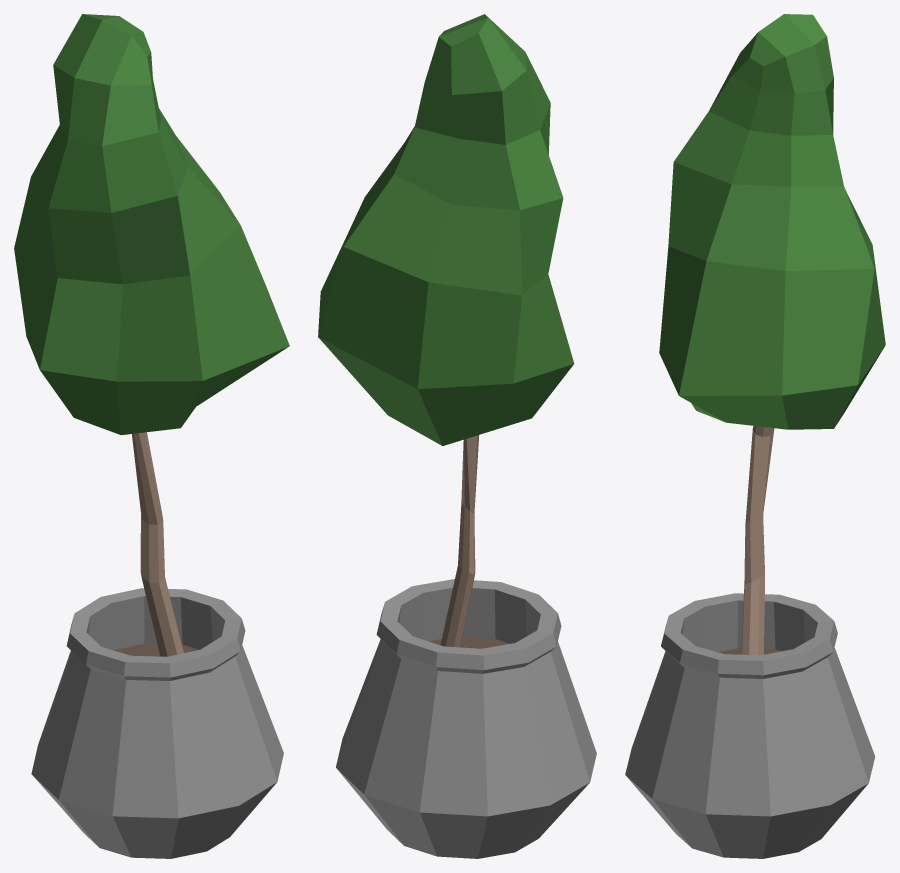
The model's file is Tree_7.fbx.
3 renders of one model, left to right at view 1: azimuth 30°, elevation 25°; view 2: azimuth 150°, elevation 25°; view 3: azimuth 270°, elevation 25°, orthographic. The views are drawn at different scales.
Visible parts, largest first — view 1: Tree_7; view 2: Tree_7; view 3: Tree_7.
Part boxes in pixels (<box>): Tree_7: <box>14,14,289,858</box>; Tree_7: <box>318,14,596,858</box>; Tree_7: <box>625,14,885,858</box>.
Size of the model in its own units: 97.26 by 93.99 by 317.
